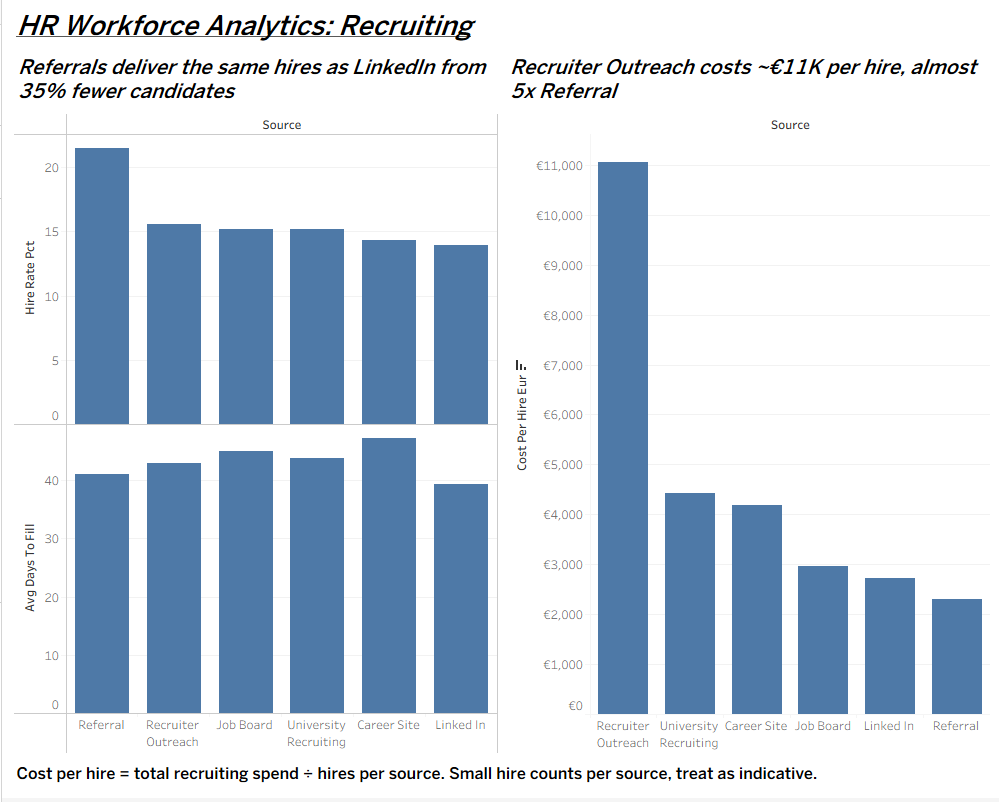

The page's visual inventory and layout, read from the dashboard file:
{"tool":"tableau","page":{"name":"Recruiting","canvas":[1000,800],"ordinal":1},"visuals":[{"type":"title","box":[8,8,984,41]},{"type":"worksheet","title":"Hire rate & days to fill","mark":"Automatic","rows":["hire_rate_pct","avg_days_to_fill"],"cols":["source"],"box":[8,49,492,711]},{"type":"worksheet","title":"Cost per hire","mark":"Automatic","rows":["cost_per_hire_eur"],"cols":["source"],"box":[500,49,492,711]},{"type":"text","box":[8,760,984,32]}]}

Visuals, with their boxes in screenshot pixels (x1, y1, x2, y2), scaled from the page's 1000x800 canvas onto the 999x802 screenshot:
title: <box>8,8,991,49</box>
"Hire rate & days to fill" worksheet: <box>8,49,500,762</box>
"Cost per hire" worksheet: <box>500,49,991,762</box>
text: <box>8,762,991,794</box>
